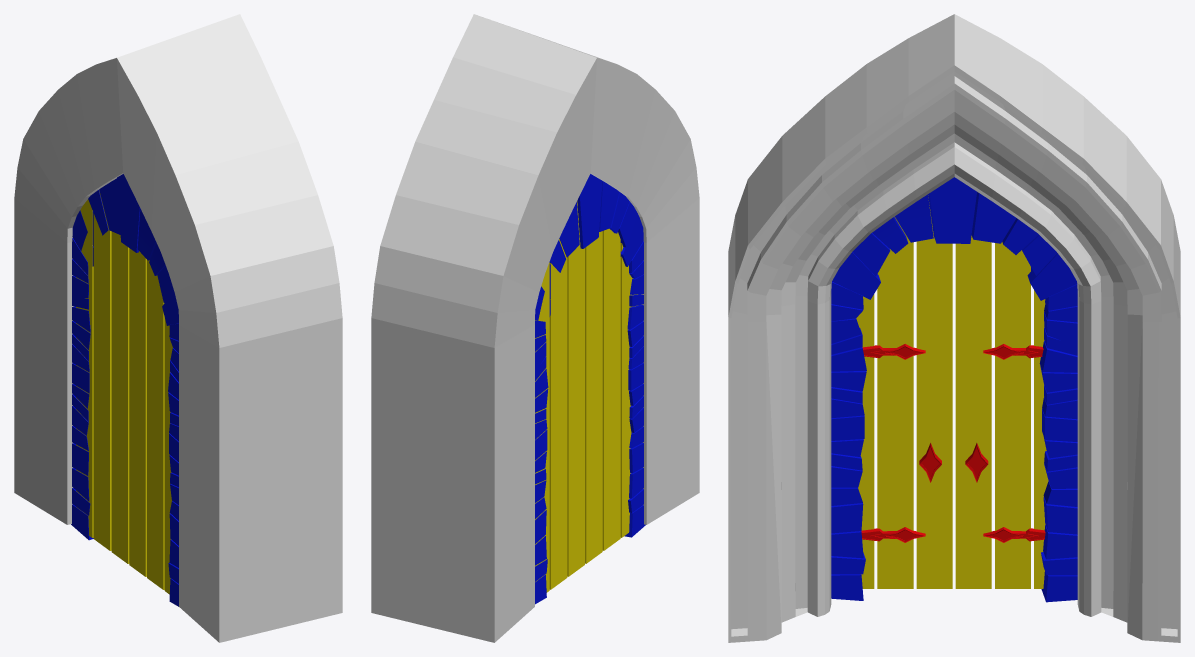
Rendered from Door_low.fbx.
The picture shows the model from 3 angles, left to right: view 1: azimuth 30°, elevation 25°; view 2: azimuth 150°, elevation 25°; view 3: azimuth 270°, elevation 25°; orthographic projection. The views are drawn at different scales.
Parts seen in each view (by area): view 1: Cube.001, Cube.198; view 2: Cube.001, Cube.198; view 3: Cube.001, Cube.198.
Boxes of the visible parts, box(x1,y1,x2,y2) form: Cube.001: box(14, 14, 342, 642); Cube.198: box(71, 174, 178, 606); Cube.001: box(371, 14, 699, 642); Cube.198: box(535, 174, 645, 604); Cube.001: box(728, 14, 1180, 642); Cube.198: box(831, 177, 1077, 602).
Bounding box in the file's own units: 104 × 427 × 300.
